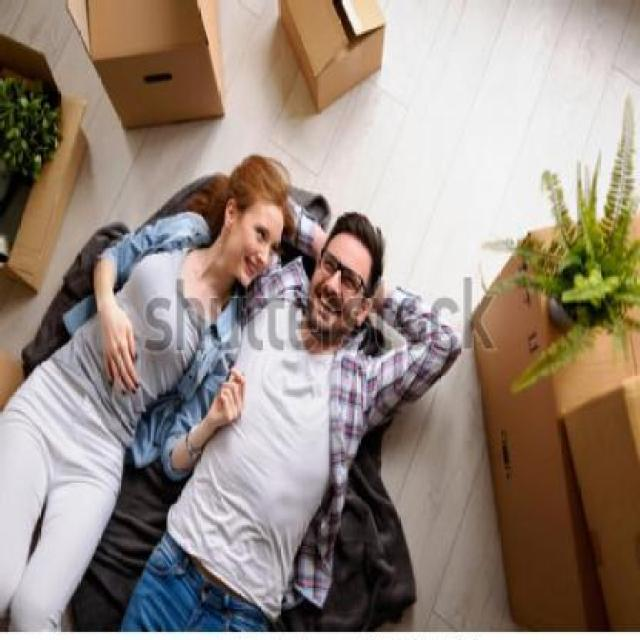box: (464, 227, 604, 640), (57, 0, 257, 146), (2, 33, 86, 299), (568, 370, 638, 630), (278, 0, 396, 128)
